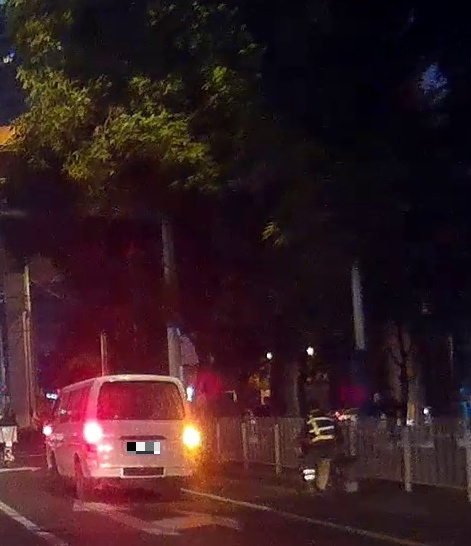L_light: (83, 420, 102, 444)
R_light: (183, 425, 200, 448)
T_light: (131, 379, 152, 383)
night-right: (82, 374, 200, 501)
plate_1: (127, 442, 160, 454)
